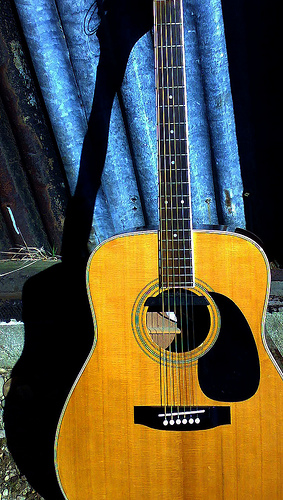guitar: (51, 1, 283, 500)
